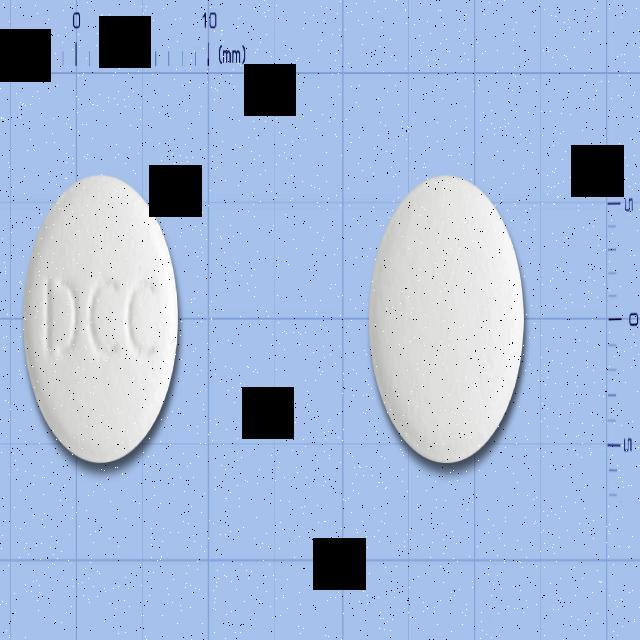Ciproxin -250mg: (19, 169, 185, 470)
